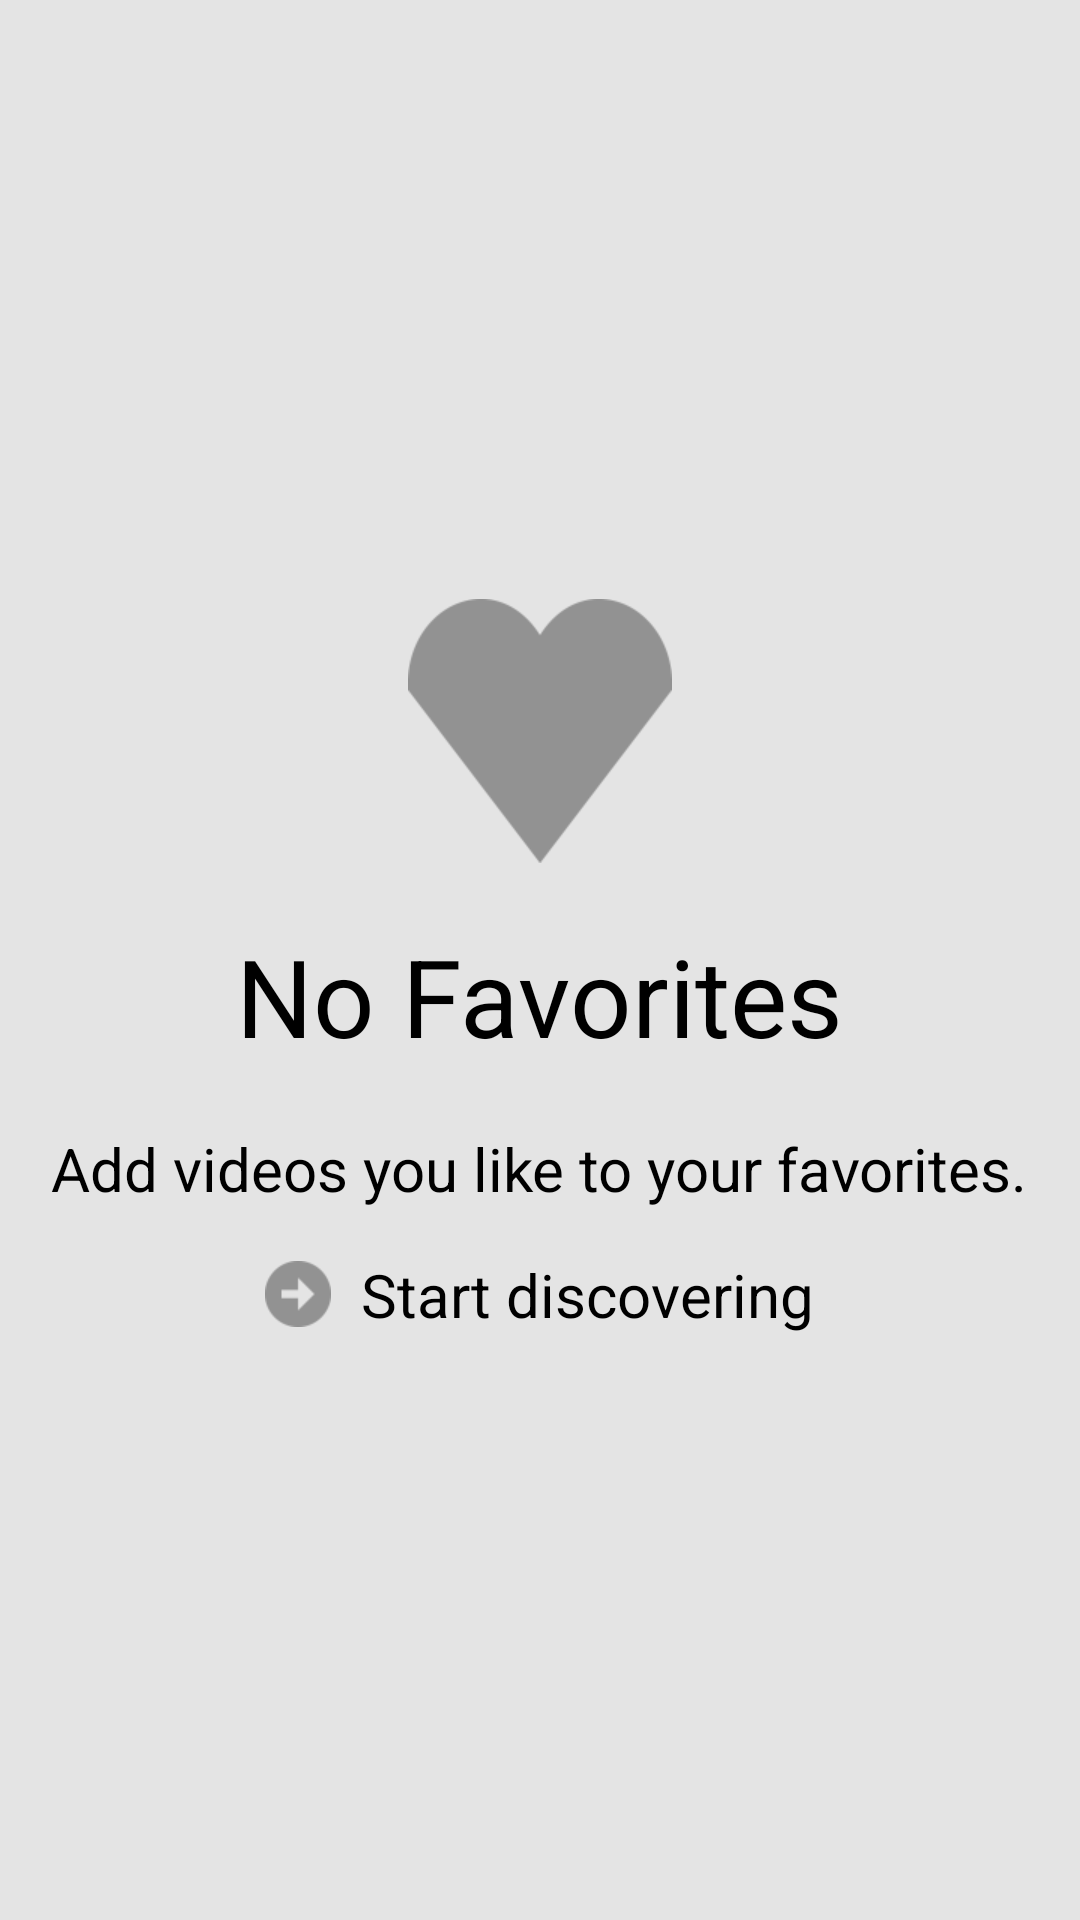

Icons on this 1080 x 1920 Android screen, each with the point to tap as [x,y]:
arrow right: [298,1294]
heart: [540,731]
